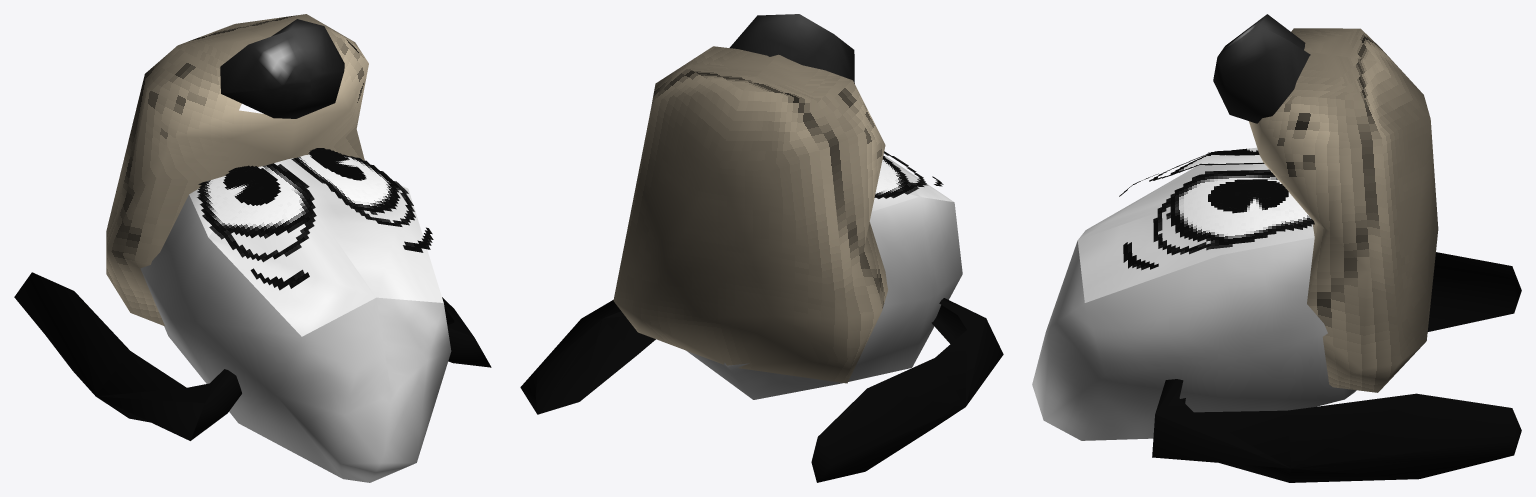
Rendered from dls_500.glb.
The picture shows the model from 3 angles, left to right: view 1: azimuth 30°, elevation 25°; view 2: azimuth 150°, elevation 25°; view 3: azimuth 270°, elevation 25°; orthographic projection. The views are drawn at different scales.
Parts seen in each view (by area): view 1: head, muzzle, head-front, ears, eyes, nose, dog-head-ls; view 2: muzzle, ears, head, nose, eyes, head-front; view 3: muzzle, head, ears, head-front, eyes, nose, dog-head-ls.
Boxes of the visible parts, bbox=[...] form: head: bbox=[140, 195, 451, 482]; muzzle: bbox=[106, 14, 368, 326]; head-front: bbox=[189, 158, 443, 336]; ears: bbox=[14, 272, 491, 440]; eyes: bbox=[197, 154, 433, 290]; nose: bbox=[220, 19, 344, 118]; dog-head-ls: bbox=[223, 148, 366, 205]; muzzle: bbox=[613, 46, 887, 383]; ears: bbox=[520, 298, 1003, 482]; head: bbox=[687, 196, 962, 399]; nose: bbox=[729, 14, 854, 83]; eyes: bbox=[874, 151, 943, 198]; head-front: bbox=[872, 156, 953, 211]; muzzle: bbox=[1249, 28, 1438, 392]; head: bbox=[1032, 237, 1356, 440]; ears: bbox=[1152, 252, 1521, 482]; head-front: bbox=[1077, 164, 1314, 302]; eyes: bbox=[1119, 153, 1314, 270]; nose: bbox=[1213, 14, 1310, 123]; dog-head-ls: bbox=[1208, 147, 1288, 213].
Bounding box in the file's own units: 1.29 × 1.3 × 1.44.
6 materials, 5 textured.
